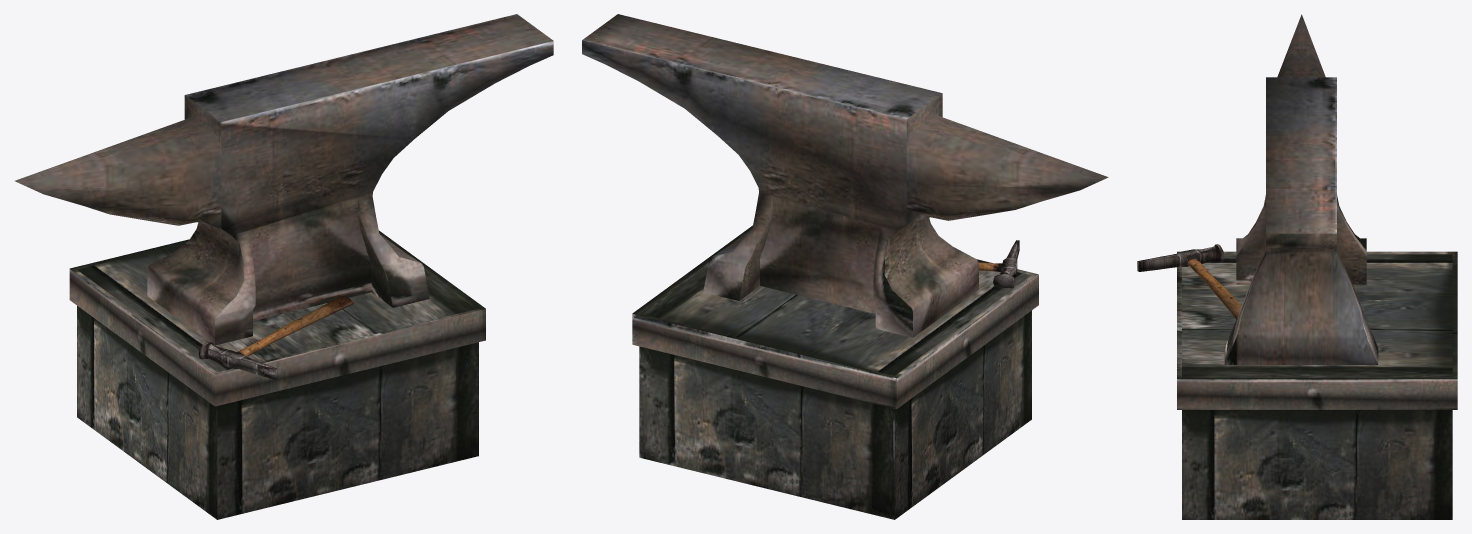
File: anvil.dae
3 renders of one model, left to right at view 1: azimuth 30°, elevation 25°; view 2: azimuth 150°, elevation 25°; view 3: azimuth 270°, elevation 25°, orthographic. The views are drawn at different scales.
Parts seen in each view (by area): view 1: meshU3D; view 2: meshU3D; view 3: meshU3D.
Part boxes in pixels (left/top/right/bottom): meshU3D: left=15, top=14, right=553, bottom=519; meshU3D: left=582, top=14, right=1108, bottom=519; meshU3D: left=1137, top=14, right=1457, bottom=519.
Bounding box in the file's own units: 49.9 × 32.43 × 27.52.
1 material, 1 textured.
